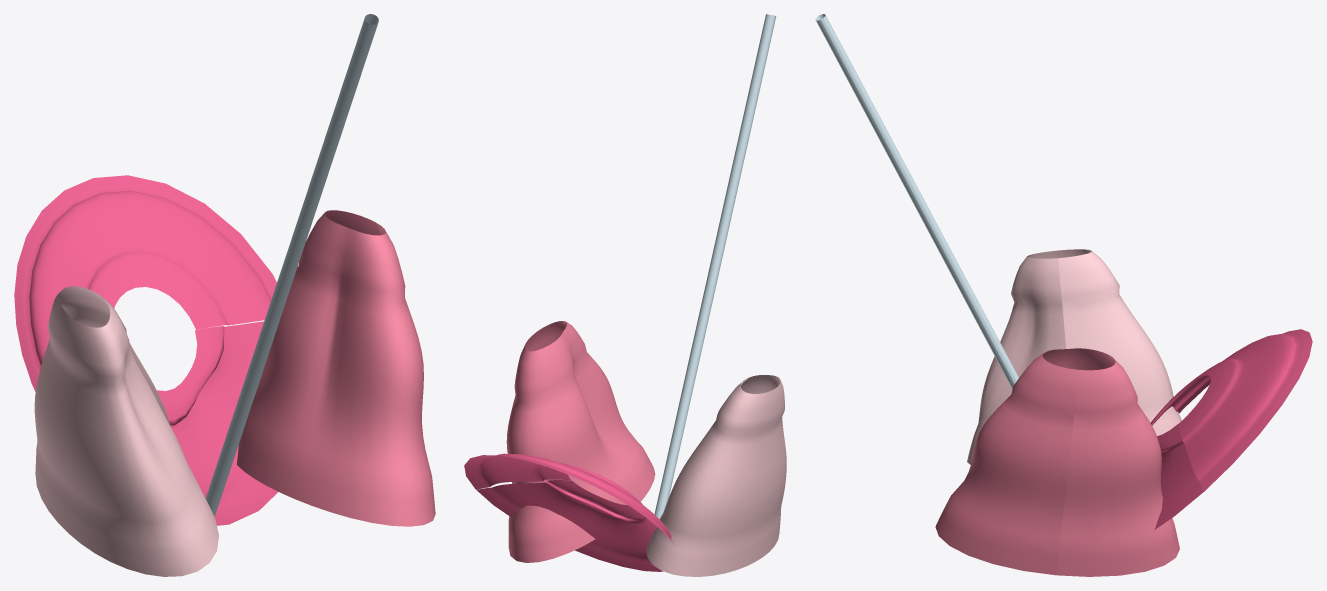
File: respiratory.glb
The picture shows the model from 3 angles, left to right: view 1: azimuth 30°, elevation 25°; view 2: azimuth 150°, elevation 25°; view 3: azimuth 270°, elevation 25°; orthographic projection. The views are drawn at different scales.
Parts seen in each view (by area): view 1: Mesh_Camelid_Pulmo_Dexter, Mesh_Camelid_Diaphragma, Mesh_Camelid_Pulmo_Sinister, Mesh_Camelid_Trachea; view 2: Mesh_Camelid_Pulmo_Dexter, Mesh_Camelid_Pulmo_Sinister, Mesh_Camelid_Diaphragma, Mesh_Camelid_Trachea; view 3: Mesh_Camelid_Pulmo_Dexter, Mesh_Camelid_Pulmo_Sinister, Mesh_Camelid_Diaphragma, Mesh_Camelid_Trachea.
Part boxes in pixels (<box>): Mesh_Camelid_Pulmo_Dexter: <box>237,210,435,526</box>; Mesh_Camelid_Diaphragma: <box>14,175,278,525</box>; Mesh_Camelid_Pulmo_Sinister: <box>34,286,218,576</box>; Mesh_Camelid_Trachea: <box>205,14,378,516</box>; Mesh_Camelid_Pulmo_Dexter: <box>506,321,655,562</box>; Mesh_Camelid_Pulmo_Sinister: <box>646,375,786,576</box>; Mesh_Camelid_Diaphragma: <box>464,453,674,571</box>; Mesh_Camelid_Trachea: <box>654,14,776,518</box>; Mesh_Camelid_Pulmo_Dexter: <box>935,348,1179,576</box>; Mesh_Camelid_Pulmo_Sinister: <box>967,249,1181,464</box>; Mesh_Camelid_Diaphragma: <box>1151,329,1312,529</box>; Mesh_Camelid_Trachea: <box>815,14,1018,389</box>.
Size of the model in its own units: 0.4283 by 0.781 by 0.6893.
